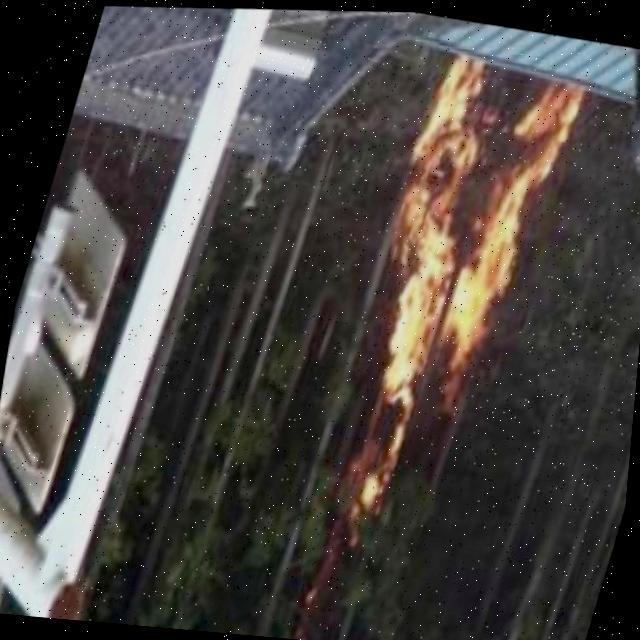fire: (336, 43, 600, 445)
